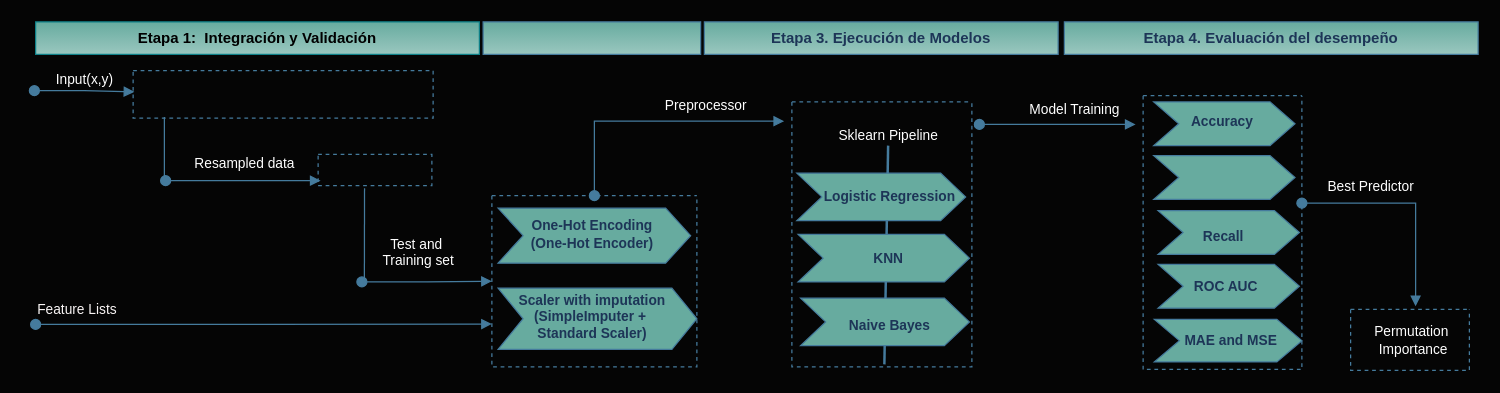
Some shapes in this 1500 by 393 pixel diagram are drawn without their labels. The box of each missing label's shape, as (x1, y1, x2, y2) in pixels:
Etapa 2: Preprocesamiento: (482, 21, 701, 54)
F1 Score: (1152, 154, 1295, 199)
SMOTE (Synthetic Minority Over-sampling Technique): (132, 69, 433, 118)
Train-Test Split: (317, 153, 432, 186)
